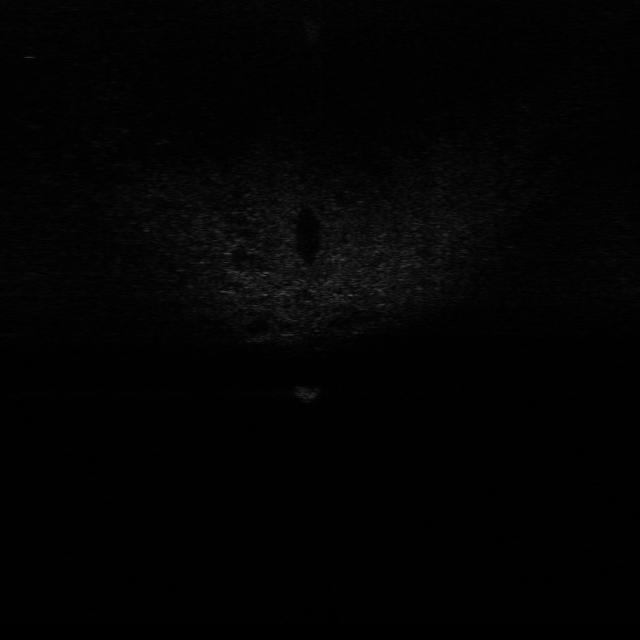cube: (292, 383, 328, 406)
